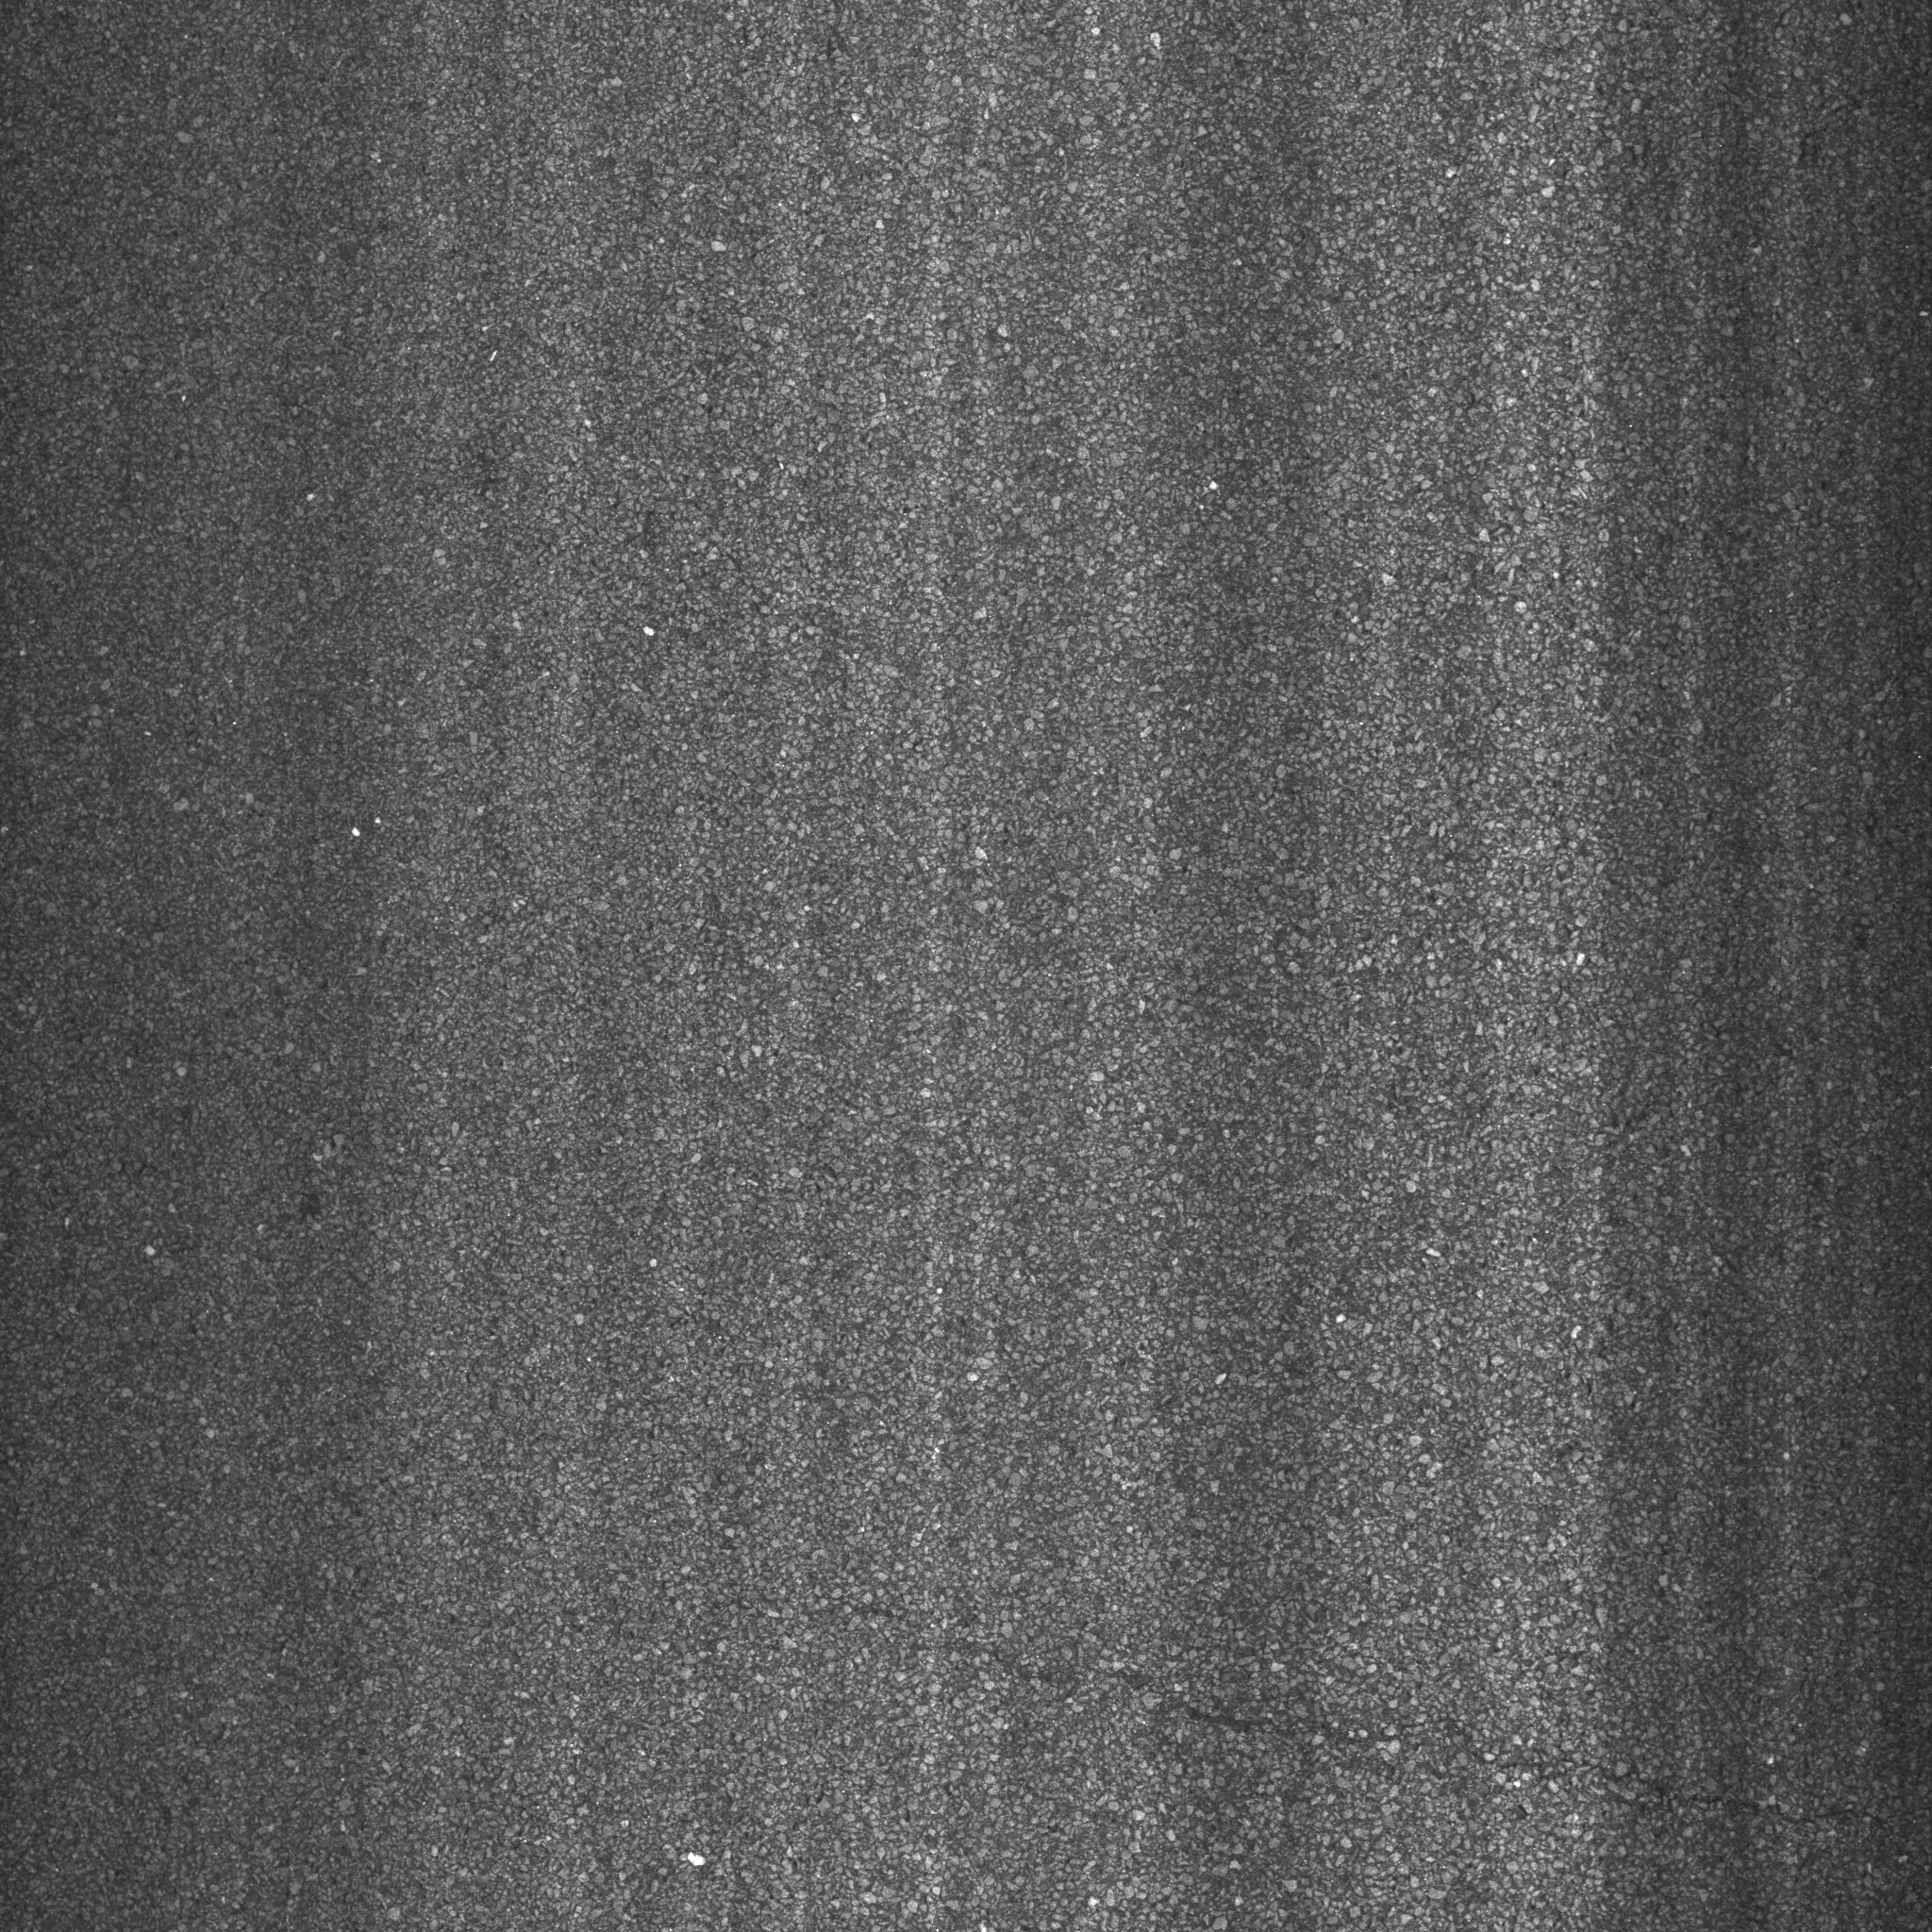transverse: (805, 1566, 1849, 1849)
